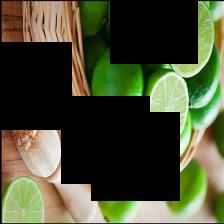green: (90, 45, 143, 128), (107, 1, 166, 49), (103, 110, 150, 159), (184, 44, 219, 108), (148, 111, 191, 163)
